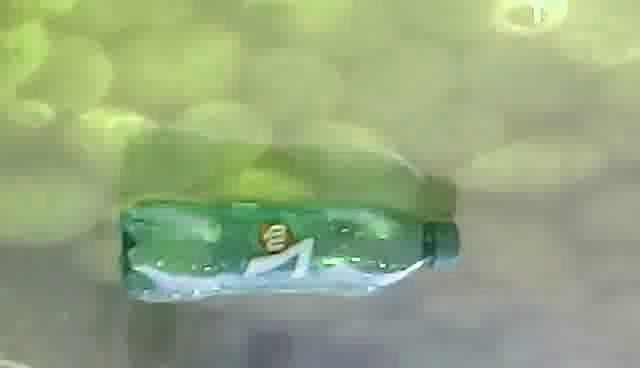Plastic: (112, 199, 470, 311)
